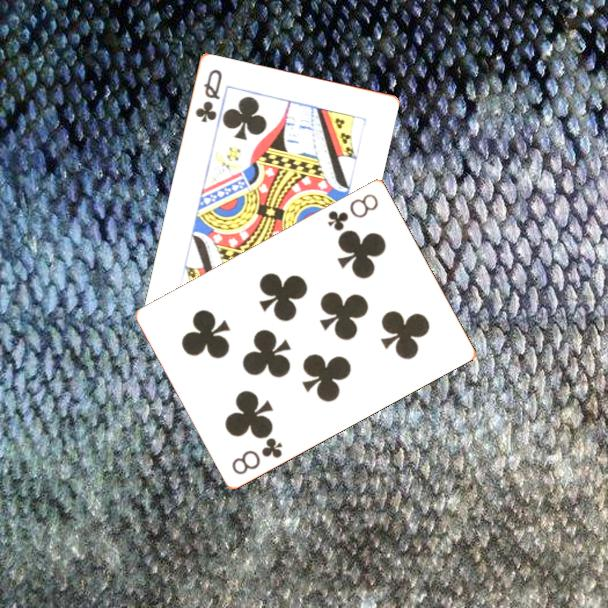c08: (324, 190, 381, 234), (228, 434, 286, 477)
c12: (191, 65, 225, 125)
